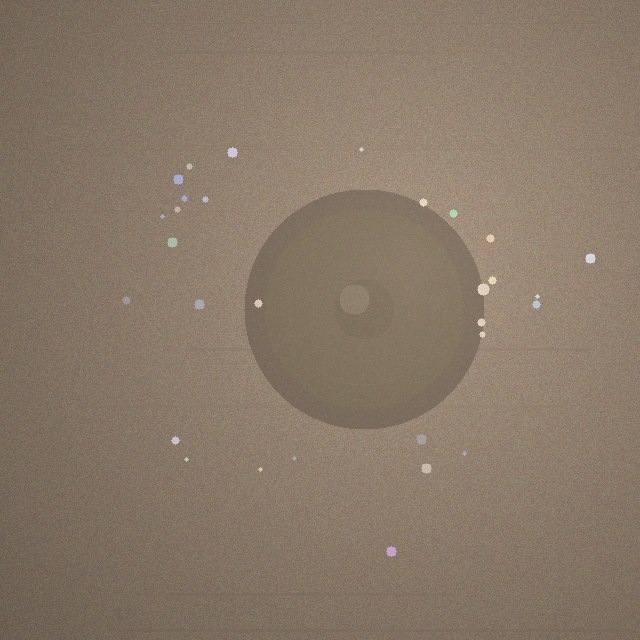overburn: (244, 189, 484, 429)
